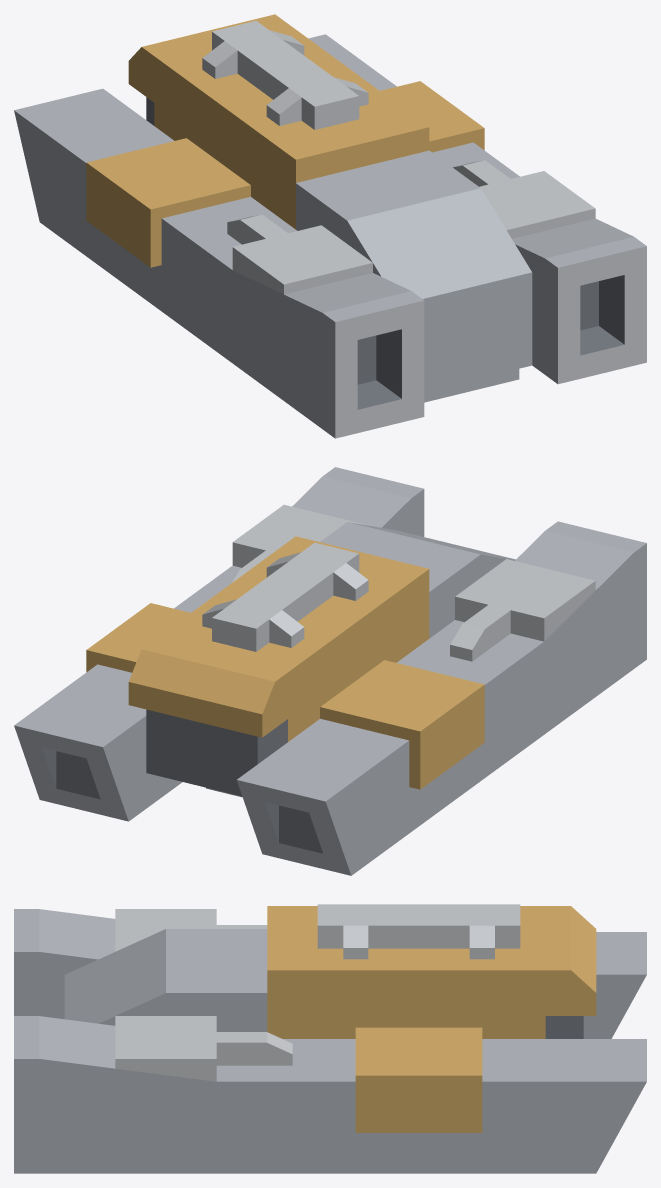
File: craft_cargoB.glb
The picture shows the model from 3 angles, top to bottom: view 1: azimuth 30°, elevation 25°; view 2: azimuth 150°, elevation 25°; view 3: azimuth 270°, elevation 25°; orthographic projection.
Visible parts, largest first — view 1: craft_cargoB; view 2: craft_cargoB; view 3: craft_cargoB.
Boxes of the visible parts, box(x1,y1,x2,y2) form: craft_cargoB: box(14, 14, 646, 438); craft_cargoB: box(14, 467, 646, 875); craft_cargoB: box(14, 904, 646, 1173).
Bounding box in the file's own units: 1.5 × 0.9001 × 2.5.
